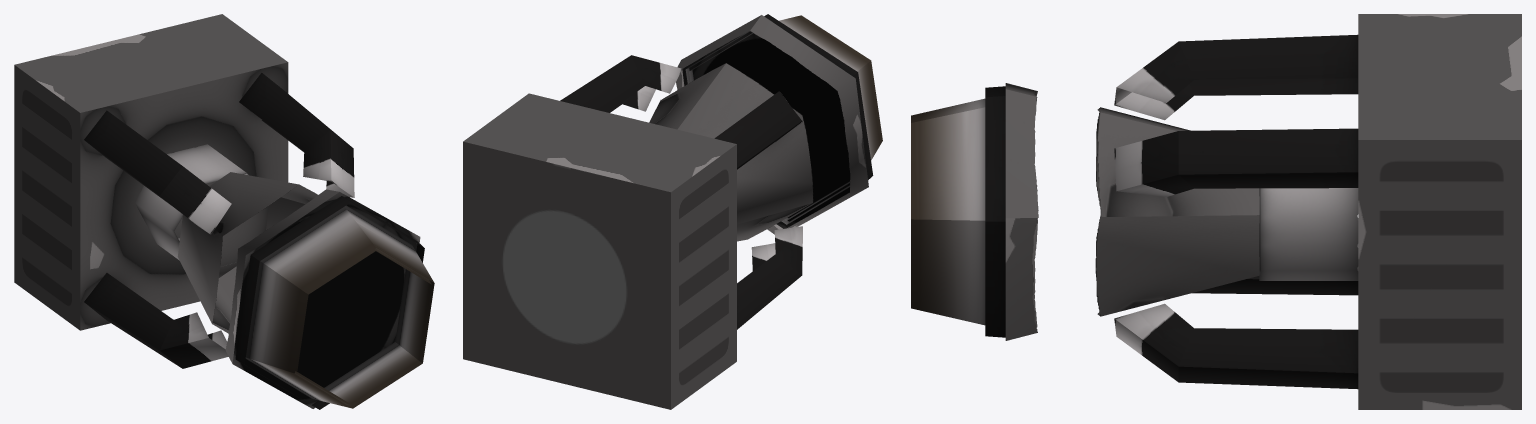
File: obj_interactive_thruster_01_lod1.fbx
3 views of the same model, side by side, from view 1: azimuth 30°, elevation 25°; view 2: azimuth 150°, elevation 25°; view 3: azimuth 270°, elevation 25° (orthographic). The views are drawn at different scales.
Visible parts, largest first — view 1: polySurface27; view 2: polySurface27; view 3: polySurface27.
Boxes of the visible parts, <box> form: polySurface27: <box>14,14,434,409</box>; polySurface27: <box>463,14,882,409</box>; polySurface27: <box>911,14,1521,409</box>.
Size of the model in its own units: 2 by 2 by 4.1.
1 material, 1 textured.
